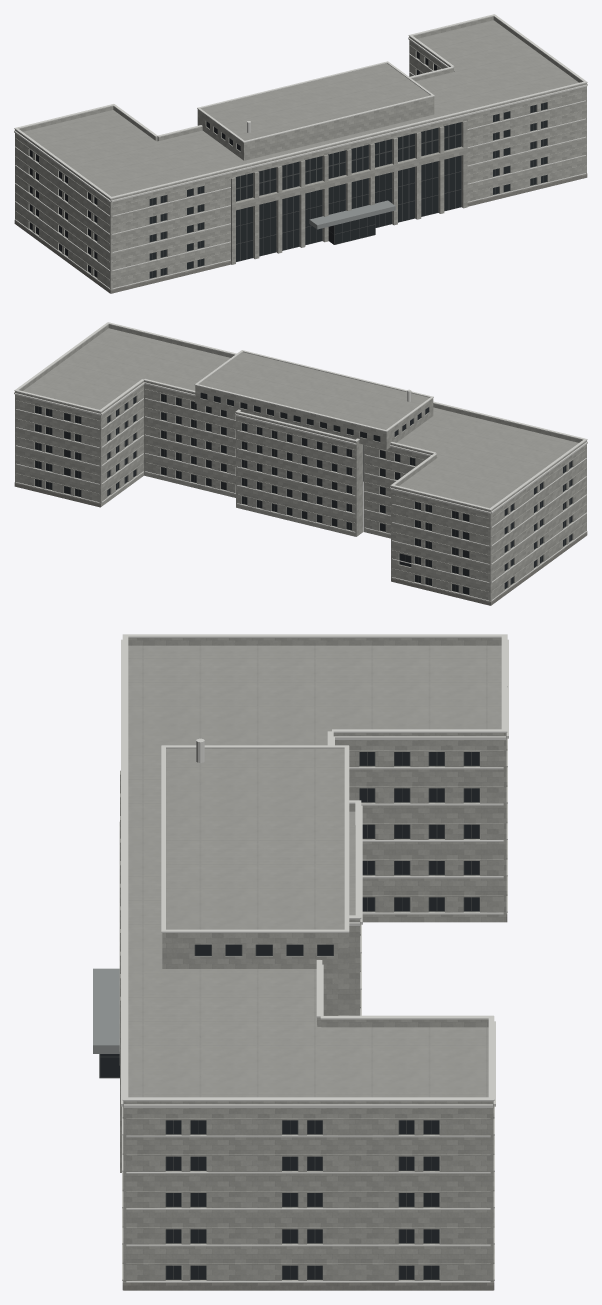
3 renders of one model, top to bottom at view 1: azimuth 30°, elevation 25°; view 2: azimuth 150°, elevation 25°; view 3: azimuth 270°, elevation 25°, orthographic. The views are drawn at different scales.
Visible parts, largest first — view 1: scienceLibrary__stone, scienceLibrary__roof, scienceLibrary__glass, scienceLibrary__trim, scienceLibrary__frame, scienceLibrary__granite, scienceLibrary__canopy; view 2: scienceLibrary__stone, scienceLibrary__roof, scienceLibrary__trim, scienceLibrary__glass, scienceLibrary__frame, scienceLibrary__granite; view 3: scienceLibrary__roof, scienceLibrary__stone, scienceLibrary__trim, scienceLibrary__glass, scienceLibrary__frame, scienceLibrary__granite, scienceLibrary__canopy.
Part boxes in pixels (left/top/right/bottom): scienceLibrary__stone: left=15, top=16, right=586, bottom=289; scienceLibrary__roof: left=23, top=20, right=578, bottom=196; scienceLibrary__glass: left=30, top=51, right=546, bottom=278; scienceLibrary__trim: left=14, top=14, right=587, bottom=289; scienceLibrary__frame: left=29, top=51, right=547, bottom=278; scienceLibrary__granite: left=14, top=173, right=587, bottom=293; scienceLibrary__canopy: left=309, top=200, right=395, bottom=229; scienceLibrary__stone: left=15, top=324, right=586, bottom=601; scienceLibrary__roof: left=23, top=328, right=578, bottom=508; scienceLibrary__trim: left=14, top=322, right=587, bottom=601; scienceLibrary__glass: left=35, top=392, right=572, bottom=594; scienceLibrary__frame: left=35, top=393, right=571, bottom=594; scienceLibrary__granite: left=14, top=482, right=587, bottom=605; scienceLibrary__roof: left=128, top=645, right=501, bottom=1097; scienceLibrary__stone: left=119, top=638, right=507, bottom=1282; scienceLibrary__trim: left=121, top=634, right=508, bottom=1282; scienceLibrary__glass: left=100, top=752, right=479, bottom=1279; scienceLibrary__frame: left=99, top=752, right=479, bottom=1279; scienceLibrary__granite: left=122, top=913, right=507, bottom=1290; scienceLibrary__canopy: left=93, top=968, right=119, bottom=1053.
Bounding box in the file's own units: 116 × 27.6 × 43.58.
Materials: 7 (3 with a texture image).
